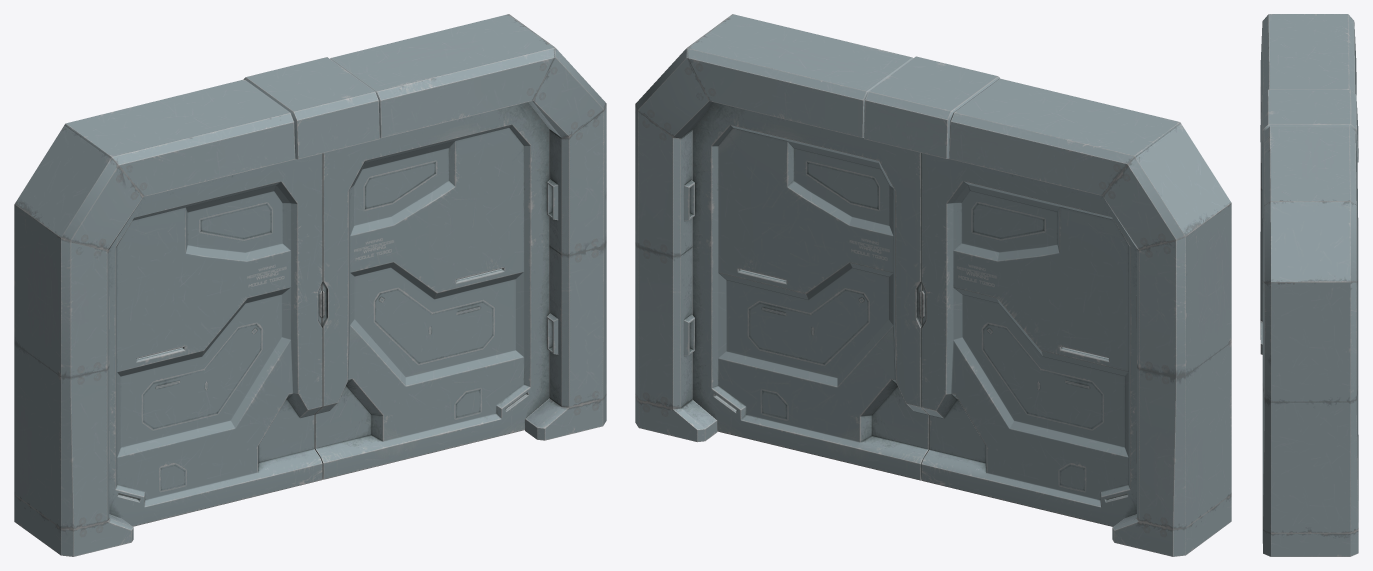
Rendered from sci-fi_doors.glb.
3 views of the same model, side by side, from view 1: azimuth 30°, elevation 25°; view 2: azimuth 150°, elevation 25°; view 3: azimuth 270°, elevation 25° (orthographic). The views are drawn at different scales.
Visible parts, largest first — view 1: LOW_Frame_Preoritet, Low_L, Low_R; view 2: LOW_Frame_Preoritet, Low_L, Low_R; view 3: LOW_Frame_Preoritet.
Part boxes in pixels (<box>): LOW_Frame_Preoritet: <box>14,14,606,556</box>; Low_L: <box>314,102,549,479</box>; Low_R: <box>109,153,322,526</box>; LOW_Frame_Preoritet: <box>635,14,1231,556</box>; Low_L: <box>692,102,929,480</box>; Low_R: <box>921,153,1136,526</box>; LOW_Frame_Preoritet: <box>1260,14,1358,556</box>.
Bounding box in the file's own units: 32.84 × 22.18 × 5.91.
2 materials, 2 textured.
